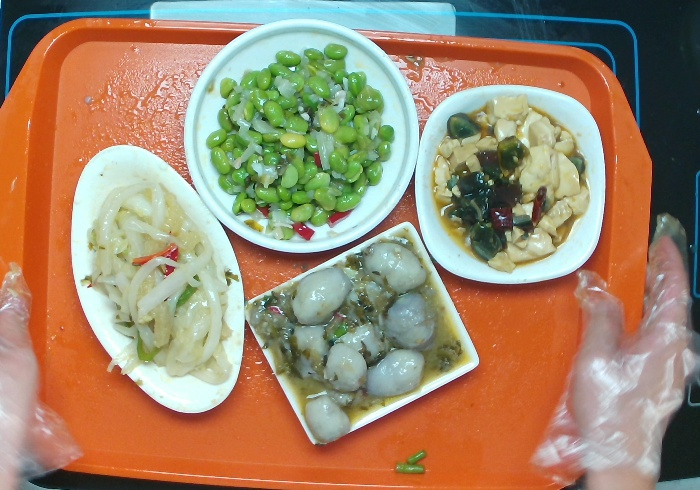HZYJPL-Si_Fang_Die: (249, 226, 481, 449)
HZYJPL-Si_Fang_Yuan_Die: (417, 82, 608, 289)
HZYJPL-Xiao_Yu_Die: (65, 139, 247, 414)
HZYJPL-Xiao_Yuan_Die: (183, 20, 420, 255)
